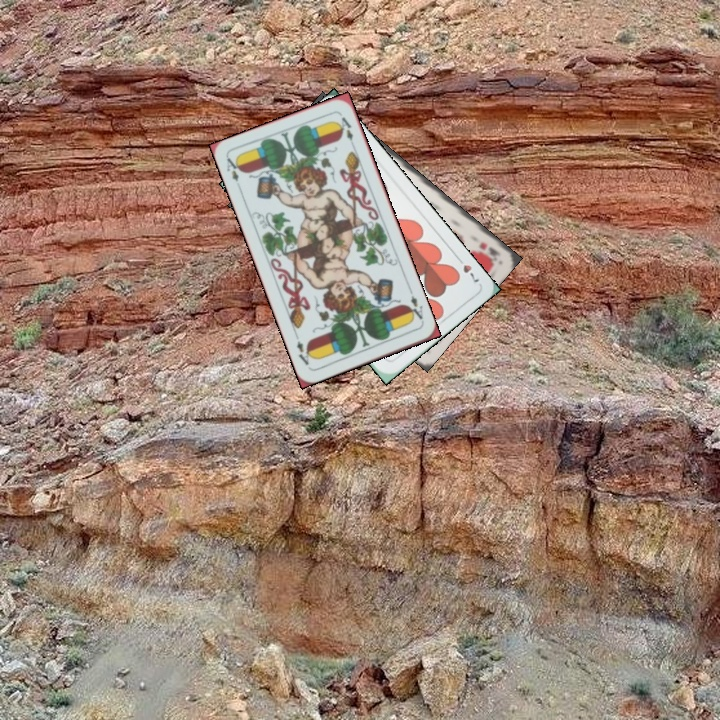EA: (403, 286, 426, 325), (222, 153, 244, 184)
H7: (452, 252, 482, 285)
HK: (474, 238, 503, 259)
